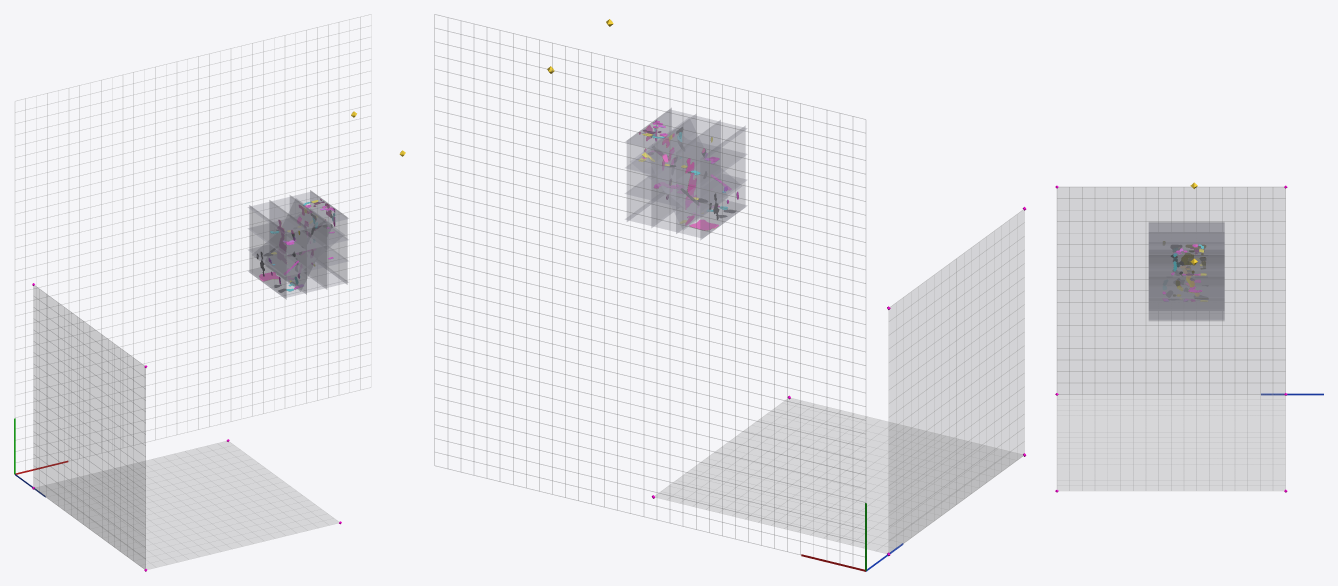
File: redfuji_storm.obj
3 views of the same model, side by side, from view 1: azimuth 30°, elevation 25°; view 2: azimuth 150°, elevation 25°; view 3: azimuth 270°, elevation 25° (orthographic). The views are drawn at different scales.
Parts seen in each view (by area): view 1: wall_A, wall_B, grid_floor, panel_A0, panel_B3, panel_A3, panel_A1, panel_B2, panel_B0, grid_wallA, panel_D1, panel_D0 (+4 smaller); view 2: wall_A, wall_B, grid_floor, panel_A0, panel_B3, grid_wallA, grid_wallB, panel_A3, panel_B2, panel_B0, panel_A1, panel_D1 (+4 smaller); view 3: wall_A, wall_B, panel_A3, grid_wallA, panel_A2, panel_B3, grid_wallB, panel_B0, panel_B1, panel_A0, panel_A1, panel_B2 (+2 smaller).
Part boxes in pixels (box(x1,y1,x2,y2)): wall_A: box(34, 286, 145, 568); wall_B: box(36, 441, 338, 569); grid_floor: box(15, 14, 371, 470); panel_A0: box(249, 205, 286, 299); panel_B3: box(248, 192, 348, 234); panel_A3: box(310, 190, 347, 284); panel_A1: box(269, 200, 306, 294); panel_B2: box(248, 223, 348, 255); panel_B0: box(248, 267, 348, 297); grid_wallA: box(33, 286, 145, 565); panel_D1: box(252, 223, 344, 281); panel_D0: box(265, 198, 332, 291); wall_A: box(889, 210, 1024, 552); wall_B: box(655, 398, 1022, 553); grid_floor: box(434, 14, 865, 556); panel_A0: box(700, 126, 745, 239); panel_B3: box(625, 110, 747, 160); grid_wallA: box(888, 210, 1024, 548); grid_wallB: box(655, 398, 1021, 552); panel_A3: box(627, 108, 671, 221); panel_B2: box(625, 148, 747, 186); panel_B0: box(625, 200, 747, 238); panel_A1: box(676, 120, 720, 233); panel_D1: box(630, 149, 741, 218); wall_A: box(1057, 187, 1285, 393); wall_B: box(1057, 394, 1285, 490); panel_A3: box(1149, 252, 1224, 320); grid_wallA: box(1057, 187, 1285, 394); panel_A2: box(1149, 242, 1224, 308); panel_B3: box(1149, 223, 1224, 254); grid_wallB: box(1057, 394, 1285, 490); panel_B0: box(1149, 309, 1224, 319); panel_B1: box(1149, 287, 1224, 297); panel_A0: box(1149, 222, 1224, 231); panel_A1: box(1149, 232, 1224, 241); panel_B2: box(1149, 265, 1224, 276).
Bounding box in the file's own units: 3318 × 3318 × 2115.
